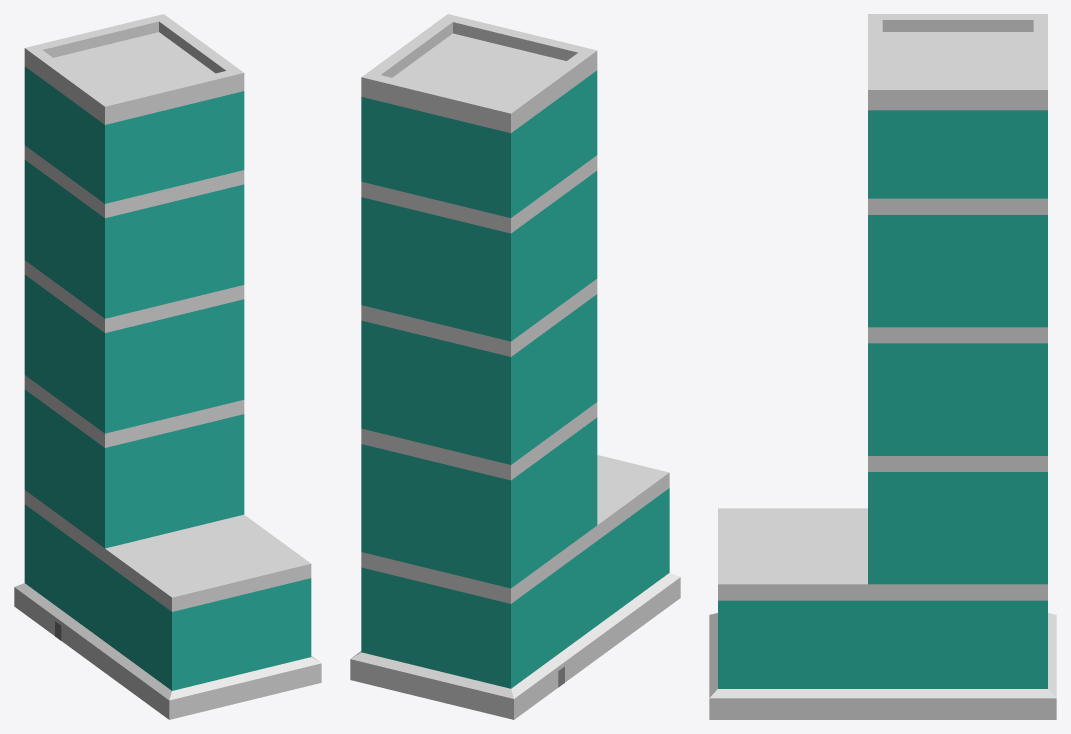
Rendered from Skyscraper2.gltf.
The picture shows the model from 3 angles, left to right: view 1: azimuth 30°, elevation 25°; view 2: azimuth 150°, elevation 25°; view 3: azimuth 270°, elevation 25°; orthographic projection. The views are drawn at different scales.
Parts seen in each view (by area): view 1: Skyscraper2; view 2: Skyscraper2; view 3: Skyscraper2.
Part boxes in pixels (box(x1,y1,x2,y2)): Skyscraper2: box(14, 14, 321, 719); Skyscraper2: box(350, 14, 680, 719); Skyscraper2: box(709, 14, 1056, 719).
Size of the model in its own units: 2.19 by 7.68 by 3.86.
